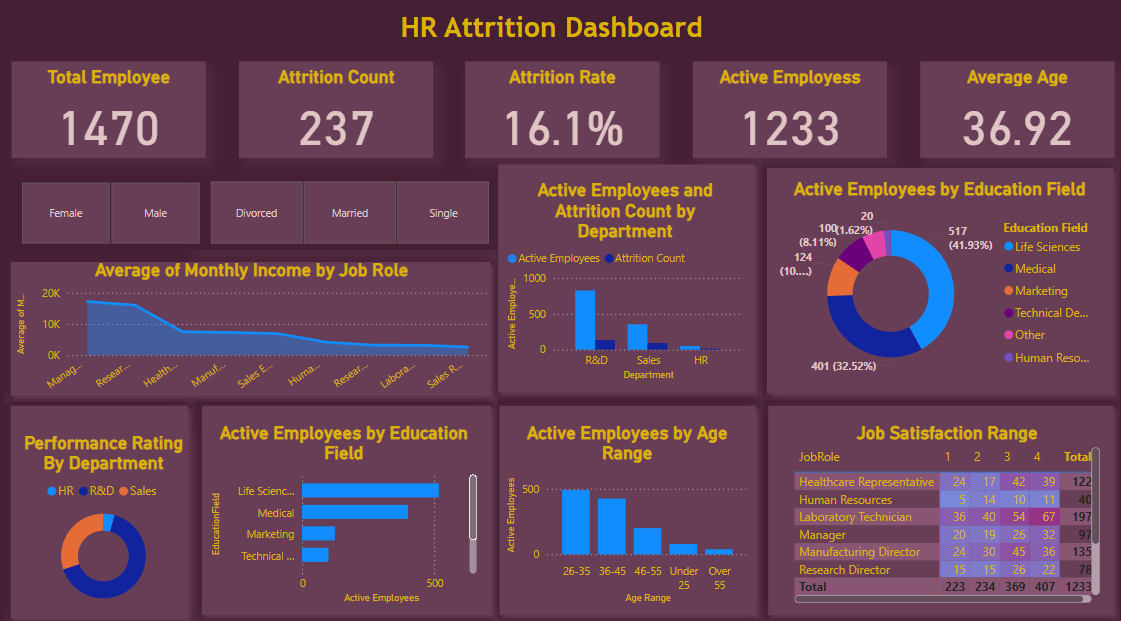

This screenshot's page, from the dashboard's own definition file:
{"tool":"powerbi","page":{"name":"Page 1","canvas":[1280,720],"ordinal":0},"visuals":[{"type":"card","title":"Total Employee","fields":{"Values":["Sum(WA_Fn-UseC_-HR-Employee-Attrition.EmployeeCount)"]},"box":[14.3,76.1,221,109.8],"z":0},{"type":"shape","box":[560.4,186.3,307.1,274.3],"z":0,"group":"g2"},{"type":"shape","box":[865.9,190.2,408.7,271.1],"z":0,"group":"g3"},{"type":"shape","box":[561.4,461,306.9,253.1],"z":0,"group":"g1"},{"type":"donutChart","title":"Active Employees by Education Field","fields":{"Y":["WA_Fn-UseC_-HR-Employee-Attrition.Active Employees"],"Category":["WA_Fn-UseC_-HR-Employee-Attrition.EducationField"]},"box":[881.2,204.1,376.7,243.3],"z":1000,"group":"g3"},{"type":"clusteredColumnChart","fields":{"Category":["WA_Fn-UseC_-HR-Employee-Attrition.Department"],"Y":["WA_Fn-UseC_-HR-Employee-Attrition.Active Employees","Sum(WA_Fn-UseC_-HR-Employee-Attrition.Attrition Count)"]},"box":[573.1,206.3,278.2,237.6],"z":1000,"group":"g2"},{"type":"shape","box":[5.7,297.1,560,167.1],"z":1000},{"type":"shape","box":[5.9,460.9,216.7,257.8],"z":2000},{"type":"shape","box":[867.1,460.9,407.8,253.3],"z":3000},{"type":"donutChart","title":"Performance Rating By Department","fields":{"Y":["Sum(WA_Fn-UseC_-HR-Employee-Attrition.PerformanceRating)"],"Series":["WA_Fn-UseC_-HR-Employee-Attrition.Department"]},"box":[22.6,493.1,192.2,211.1],"z":4000},{"type":"card","title":"Attrition Rate","fields":{"Values":["WA_Fn-UseC_-HR-Employee-Attrition.Attrition Rate"]},"box":[530.7,76.1,221,109.8],"z":5000},{"type":"card","title":"Average Age","fields":{"Values":["Avg(WA_Fn-UseC_-HR-Employee-Attrition.Age)"]},"box":[1047.1,76.1,221,109.8],"z":6000},{"type":"card","title":"Attrition Count","fields":{"Values":["Sum(WA_Fn-UseC_-HR-Employee-Attrition.Attrition Count)"]},"box":[272.5,76.1,221,109.8],"z":7000},{"type":"group","id":"g1","title":"Group 1","box":[561.4,461,306.9,253.1],"z":7000,"group":"g4"},{"type":"card","title":"Active Employess","fields":{"Values":["WA_Fn-UseC_-HR-Employee-Attrition.Active Employees"]},"box":[788.9,76.1,221,109.8],"z":8000},{"type":"columnChart","fields":{"Category":["WA_Fn-UseC_-HR-Employee-Attrition.Age Range"],"Y":["WA_Fn-UseC_-HR-Employee-Attrition.Active Employees"]},"box":[571.3,482.4,285.7,215.7],"z":8000,"group":"g4"},{"type":"group","id":"g2","title":"Group 1","box":[560.4,186.3,307.1,274.3],"z":9000},{"type":"group","id":"g3","title":"Group 2","box":[865.9,190.2,408.7,271.1],"z":10000},{"type":"group","id":"g4","title":"Group 3","box":[561.4,461,306.9,253.1],"z":11000},{"type":"pivotTable","title":"Job Satisfaction Range","fields":{"Rows":["WA_Fn-UseC_-HR-Employee-Attrition.JobRole"],"Columns":["WA_Fn-UseC_-HR-Employee-Attrition.JobSatisfaction"],"Values":["WA_Fn-UseC_-HR-Employee-Attrition.Active Employees"]},"box":[899.3,482,356.7,215.6],"z":12000},{"type":"shape","box":[222.4,461,344,253],"z":13000},{"type":"clusteredBarChart","title":"Active Employees by Education Field","fields":{"Y":["WA_Fn-UseC_-HR-Employee-Attrition.Active Employees"],"Category":["WA_Fn-UseC_-HR-Employee-Attrition.EducationField"]},"box":[235.9,482,312.2,215.6],"z":14000},{"type":"stackedAreaChart","title":"Average of Monthly Income by Job Role ","fields":{"Category":["WA_Fn-UseC_-HR-Employee-Attrition.JobRole"],"Y":["Avg(WA_Fn-UseC_-HR-Employee-Attrition.MonthlyIncome)"]},"box":[14.3,297.1,545.7,164.3],"z":15000},{"type":"textbox","box":[436.5,13.9,383.7,62.6],"z":16000},{"type":"slicer","title":"Gender","fields":{"Values":["WA_Fn-UseC_-HR-Employee-Attrition.Gender"]},"box":[0,207.5,251.7,83.3],"z":17000},{"type":"slicer","title":"Gender","fields":{"Values":["WA_Fn-UseC_-HR-Employee-Attrition.MaritalStatus"]},"box":[214.4,206.7,366.7,84.4],"z":18000}]}

Visuals, with their boxes in screenshot pixels (x1, y1, x2, y2), scaled from the page's 1280x720 canvas onto the 1121x621 screenshot:
"Total Employee" card: box(13, 66, 206, 160)
shape: box(491, 161, 760, 397)
shape: box(758, 164, 1116, 398)
shape: box(492, 398, 760, 616)
"Active Employees by Education Field" donutChart: box(772, 176, 1102, 386)
clusteredColumnChart - WA_Fn-UseC_-HR-Employee-Attrition.Department x WA_Fn-UseC_-HR-Employee-Attrition.Active Employees: box(502, 178, 746, 383)
shape: box(5, 256, 495, 400)
shape: box(5, 398, 195, 620)
shape: box(759, 398, 1117, 616)
"Performance Rating By Department" donutChart: box(20, 425, 188, 607)
"Attrition Rate" card: box(465, 66, 658, 160)
"Average Age" card: box(917, 66, 1111, 160)
"Attrition Count" card: box(239, 66, 432, 160)
"Group 1" group: box(492, 398, 760, 616)
"Active Employess" card: box(691, 66, 884, 160)
columnChart - WA_Fn-UseC_-HR-Employee-Attrition.Age Range x WA_Fn-UseC_-HR-Employee-Attrition.Active Employees: box(500, 416, 751, 602)
"Group 1" group: box(491, 161, 760, 397)
"Group 2" group: box(758, 164, 1116, 398)
"Group 3" group: box(492, 398, 760, 616)
"Job Satisfaction Range" pivotTable: box(788, 416, 1100, 602)
shape: box(195, 398, 496, 616)
"Active Employees by Education Field" clusteredBarChart: box(207, 416, 480, 602)
"Average of Monthly Income by Job Role " stackedAreaChart: box(13, 256, 490, 398)
textbox: box(382, 12, 718, 66)
"Gender" slicer: box(0, 179, 220, 251)
"Gender" slicer: box(188, 178, 509, 251)
